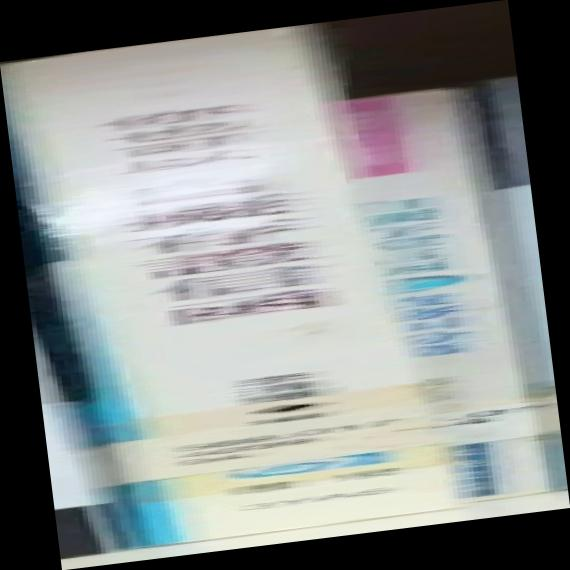book: (1, 2, 566, 570)
